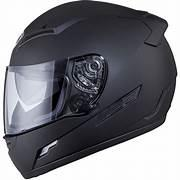Helmet: (4, 1, 176, 178)
